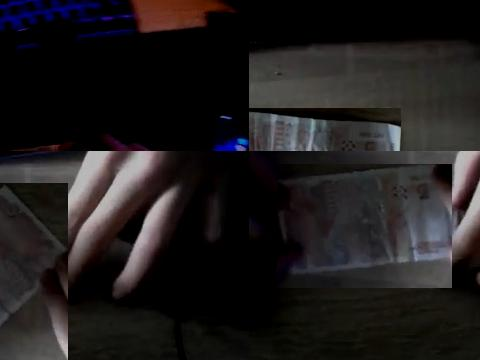5leva: (277, 164, 452, 288), (0, 183, 68, 328), (249, 110, 401, 151)
